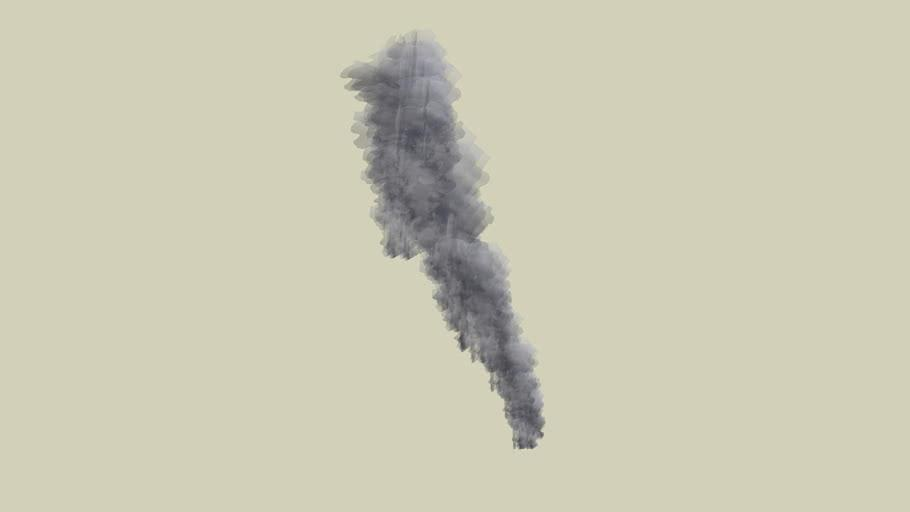smoke: (339, 28, 548, 452)
